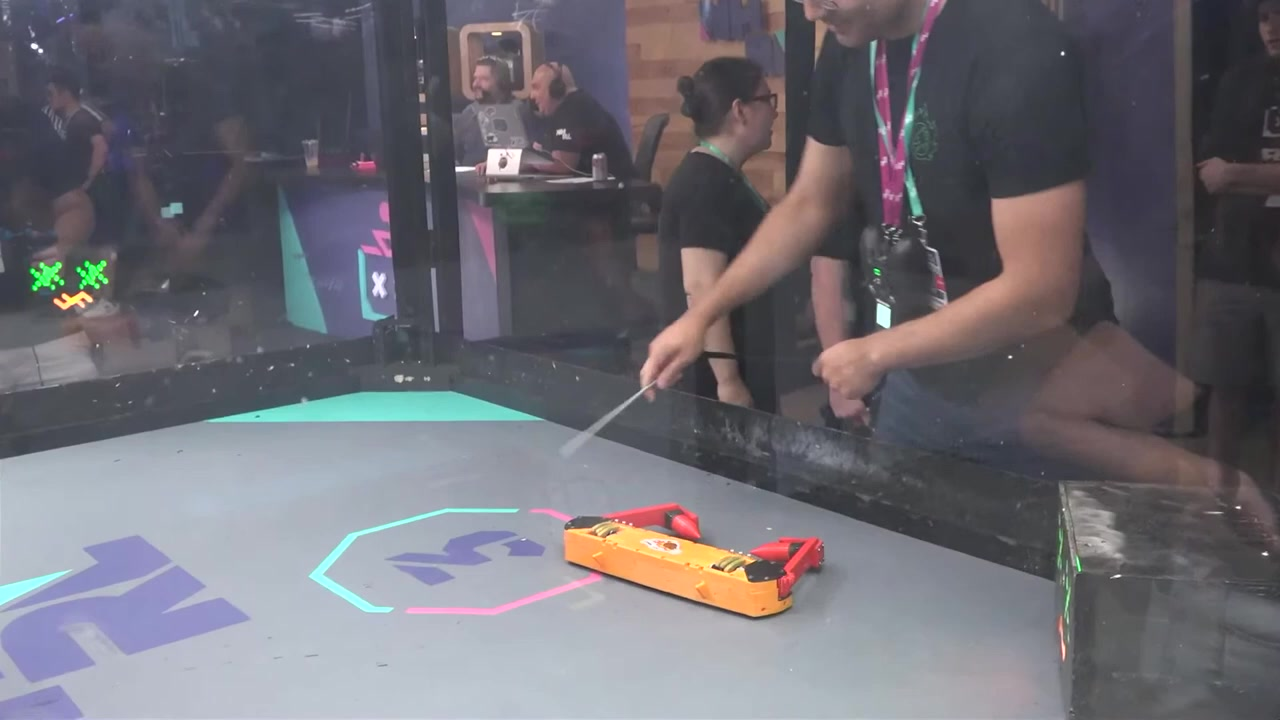combatbot: (565, 516, 790, 621)
housebot: (1058, 481, 1280, 720)
